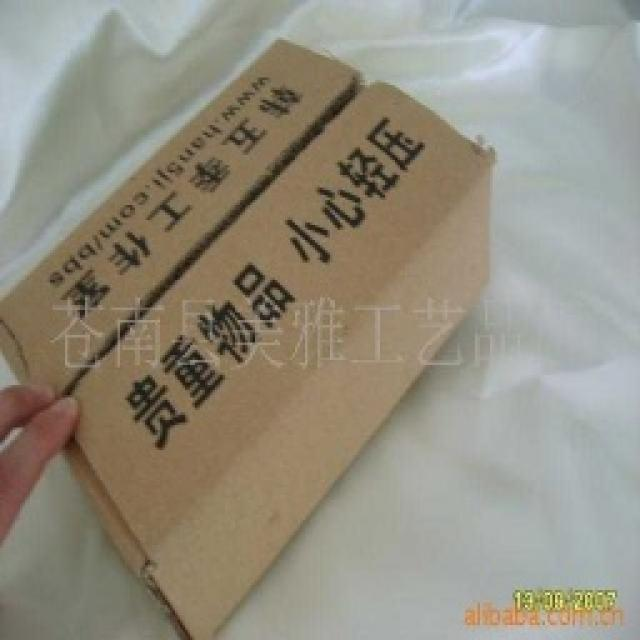box: (5, 30, 533, 640)
